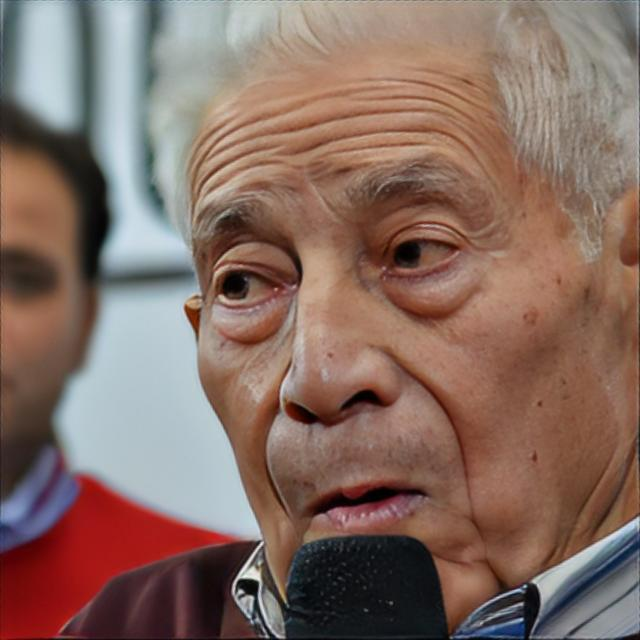surprise: (186, 9, 640, 640)
